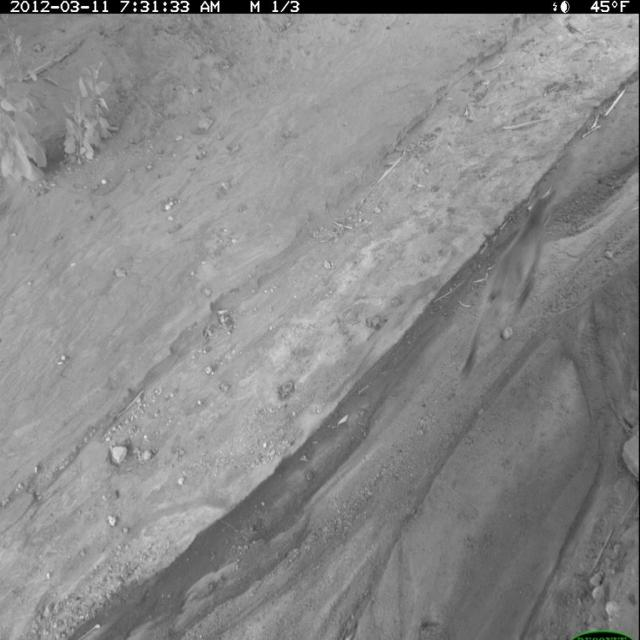bobcat: (457, 181, 563, 388)
